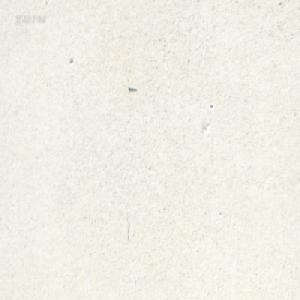Nail: (127, 85, 137, 91)
